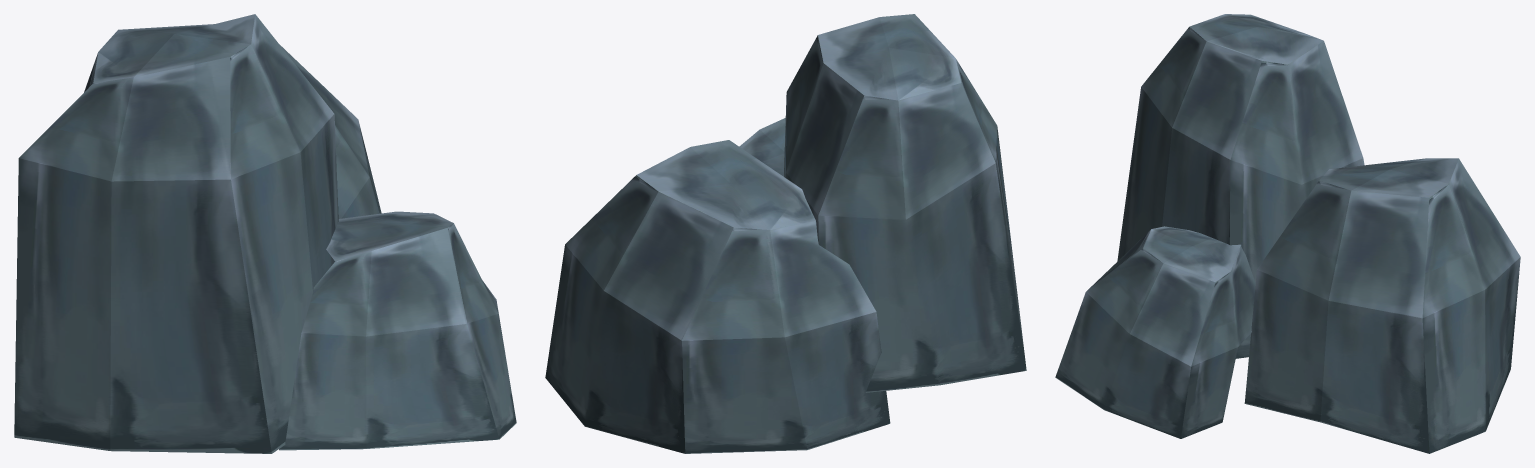
Rendered from 石頭三個.fbx.
3 renders of one model, left to right at view 1: azimuth 30°, elevation 25°; view 2: azimuth 150°, elevation 25°; view 3: azimuth 270°, elevation 25°, orthographic. The views are drawn at different scales.
Visible parts, largest first — view 1: 石頭.002; view 2: 石頭.002; view 3: 石頭.002.
Part boxes in pixels (box(x1,y1,x2,y2)): 石頭.002: box(14, 14, 516, 453); 石頭.002: box(545, 14, 1026, 453); 石頭.002: box(1055, 14, 1520, 453).
Bounding box in the file's own units: 361 × 307 × 396.
1 material, 1 textured.
